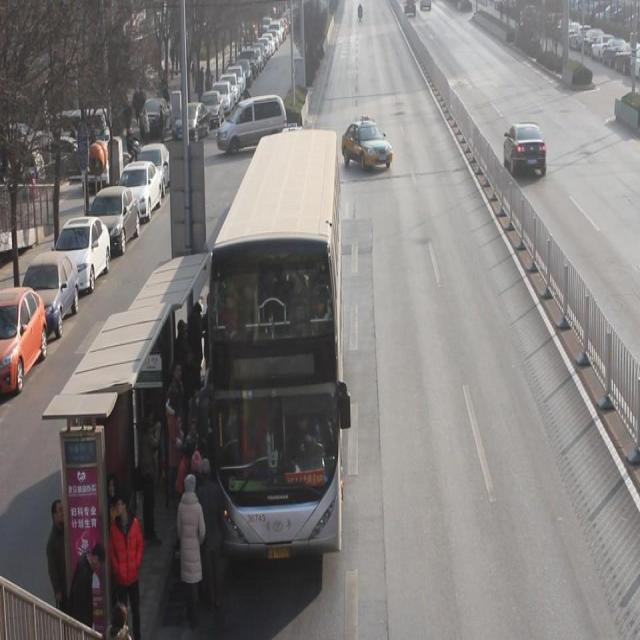car: (341, 120, 393, 174), (503, 122, 548, 180)
truck: (217, 95, 288, 158)
van: (207, 130, 340, 551)
